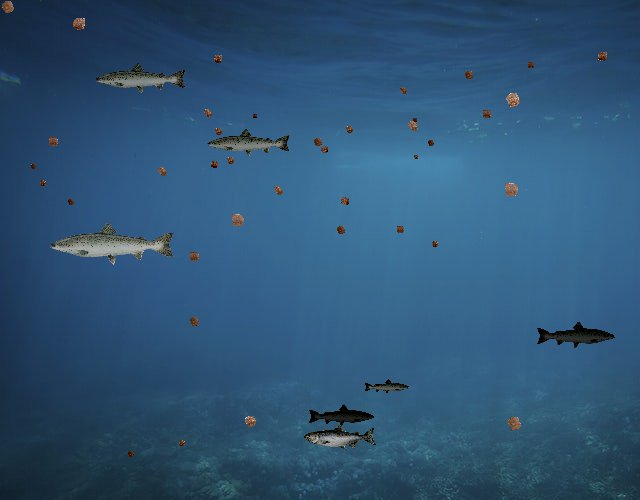Fish: (48, 220, 177, 266), (95, 62, 189, 96), (206, 127, 292, 158), (536, 320, 617, 349), (304, 424, 377, 451), (307, 404, 375, 428), (363, 379, 410, 396)
Pellet: (238, 409, 263, 434), (459, 66, 478, 85), (341, 122, 358, 139), (174, 436, 189, 451), (124, 447, 138, 461), (428, 237, 442, 251), (36, 176, 50, 190)
